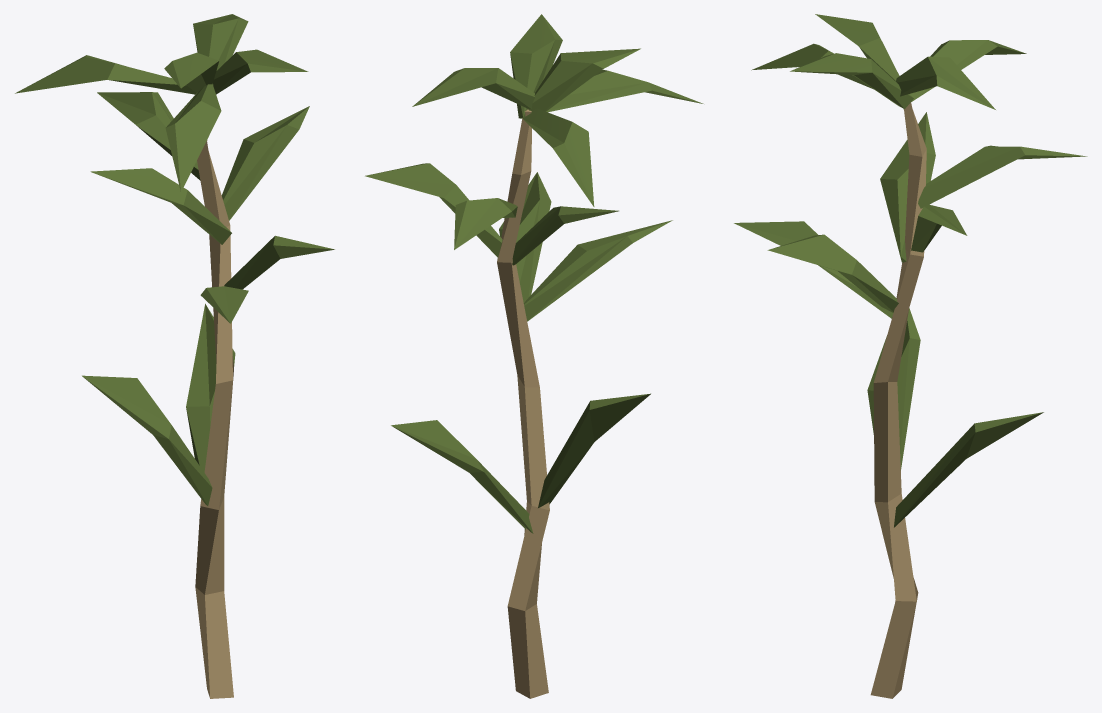
File: SM_Env_Plant_04.obj
3 views of the same model, side by side, from view 1: azimuth 30°, elevation 25°; view 2: azimuth 150°, elevation 25°; view 3: azimuth 270°, elevation 25° (orthographic). The views are drawn at different scales.
Visible parts, largest first — view 1: SM_Env_Plant_04_0; view 2: SM_Env_Plant_04_0; view 3: SM_Env_Plant_04_0.
Boxes of the visible parts, bbox=[...] form: SM_Env_Plant_04_0: bbox=[15, 14, 334, 698]; SM_Env_Plant_04_0: bbox=[365, 14, 703, 698]; SM_Env_Plant_04_0: bbox=[734, 14, 1087, 698].
Bounding box in the file's own units: 0.8013 × 1.88 × 0.9372.
1 material, 1 textured.
